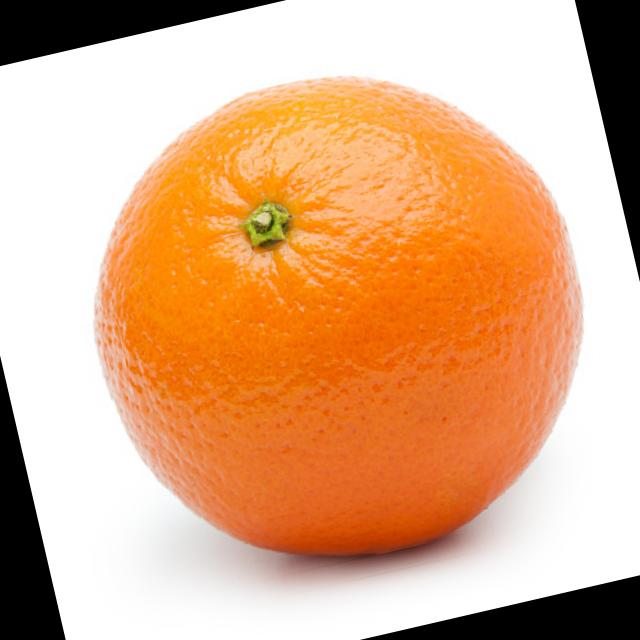orange: (22, 26, 634, 634)
